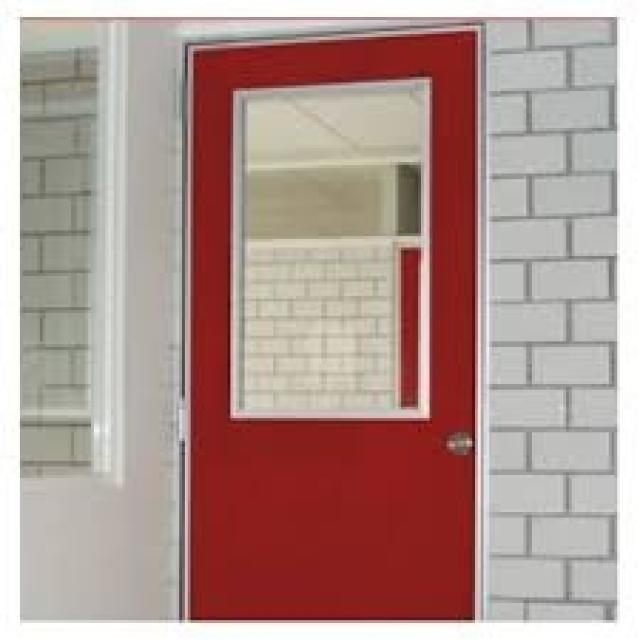door: (183, 27, 482, 622)
